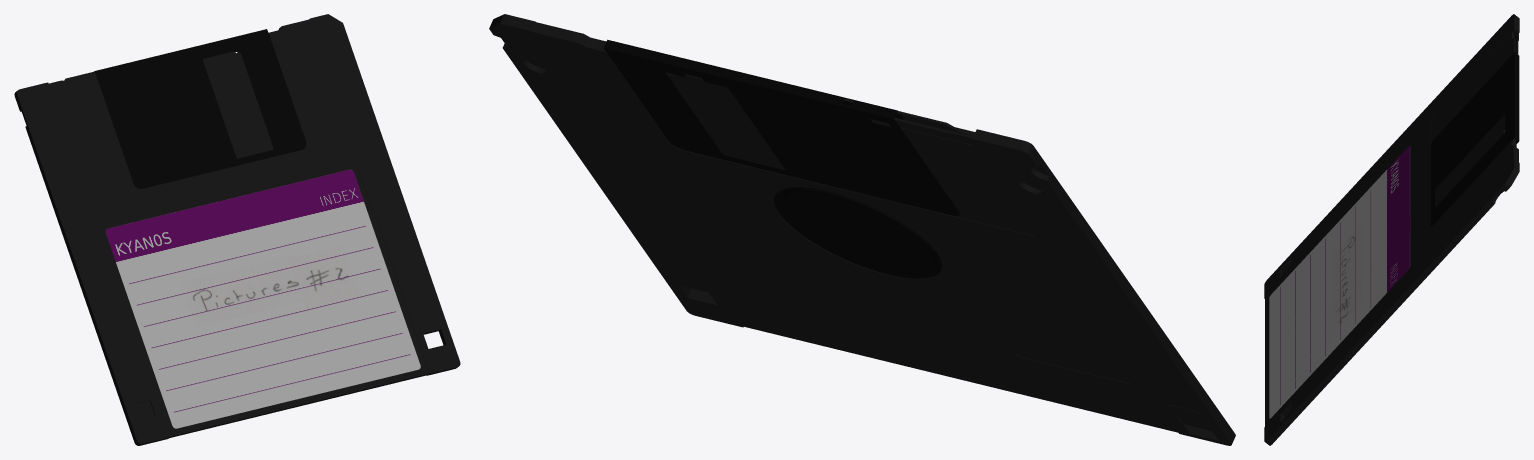
The model's file is floppy_disk.glb.
The picture shows the model from 3 angles, left to right: view 1: azimuth 30°, elevation 25°; view 2: azimuth 150°, elevation 25°; view 3: azimuth 270°, elevation 25°; orthographic projection. The views are drawn at different scales.
Visible parts, largest first — view 1: floppy-disk.003, floppy-disk, Circle; view 2: floppy-disk, Circle, Circle.001; view 3: floppy-disk, floppy-disk.003, Circle.
Boxes of the visible parts, x1,y1,x2,y2 form: floppy-disk.003: (105,169,420,428); floppy-disk: (14,14,460,445); Circle: (94,29,306,188); floppy-disk: (489,14,1235,445); Circle: (604,39,960,274); Circle.001: (774,187,942,278); floppy-disk: (1264,14,1519,445); floppy-disk.003: (1269,145,1410,418); Circle: (1430,52,1519,225).
Bounding box in the file's own units: 1.48 × 1.18 × 0.992.
4 materials, 1 textured.
